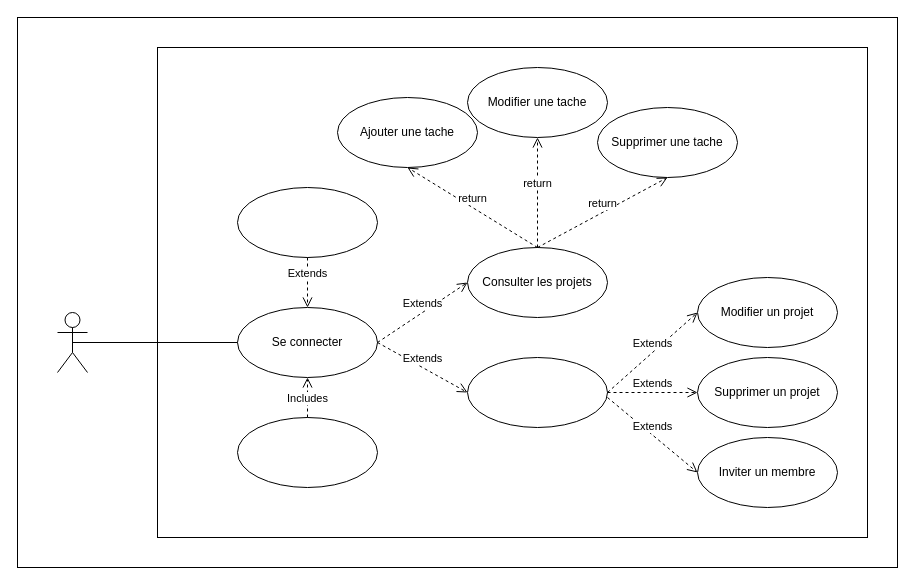
Some shapes in this 915 by 585 pixel diagram are drawn without their labels. Here are the shapes that lost their labels. From the top down, the centre of each, then its label:
At (x=307, y=222): "Se déconnecter".
At (x=72, y=342): "Membre".
At (x=537, y=392): "Crée un projet".
At (x=307, y=452): "S'inscrire".
